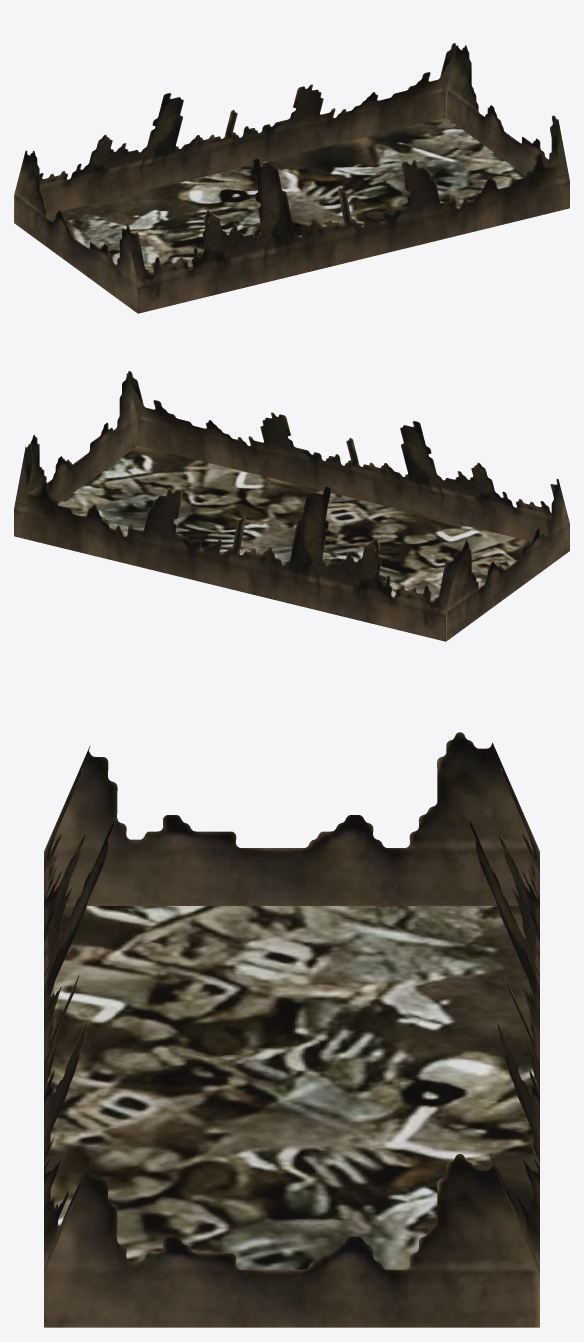
Rendered from hpg_walkway_dam_hdtex.glb.
The picture shows the model from 3 angles, top to bottom: view 1: azimuth 30°, elevation 25°; view 2: azimuth 150°, elevation 25°; view 3: azimuth 270°, elevation 25°; orthographic projection. The views are drawn at different scales.
Parts seen in each view (by area): view 1: WalkwayDam; view 2: WalkwayDam; view 3: WalkwayDam.
Boxes of the visible parts, left/top/right/bottom form: WalkwayDam: left=14, top=43, right=569, bottom=313; WalkwayDam: left=14, top=371, right=569, bottom=641; WalkwayDam: left=44, top=732, right=539, bottom=1327.
Bounding box in the file's own units: 25.59 × 6.67 × 12.71.
Materials: 1 (1 with a texture image).
